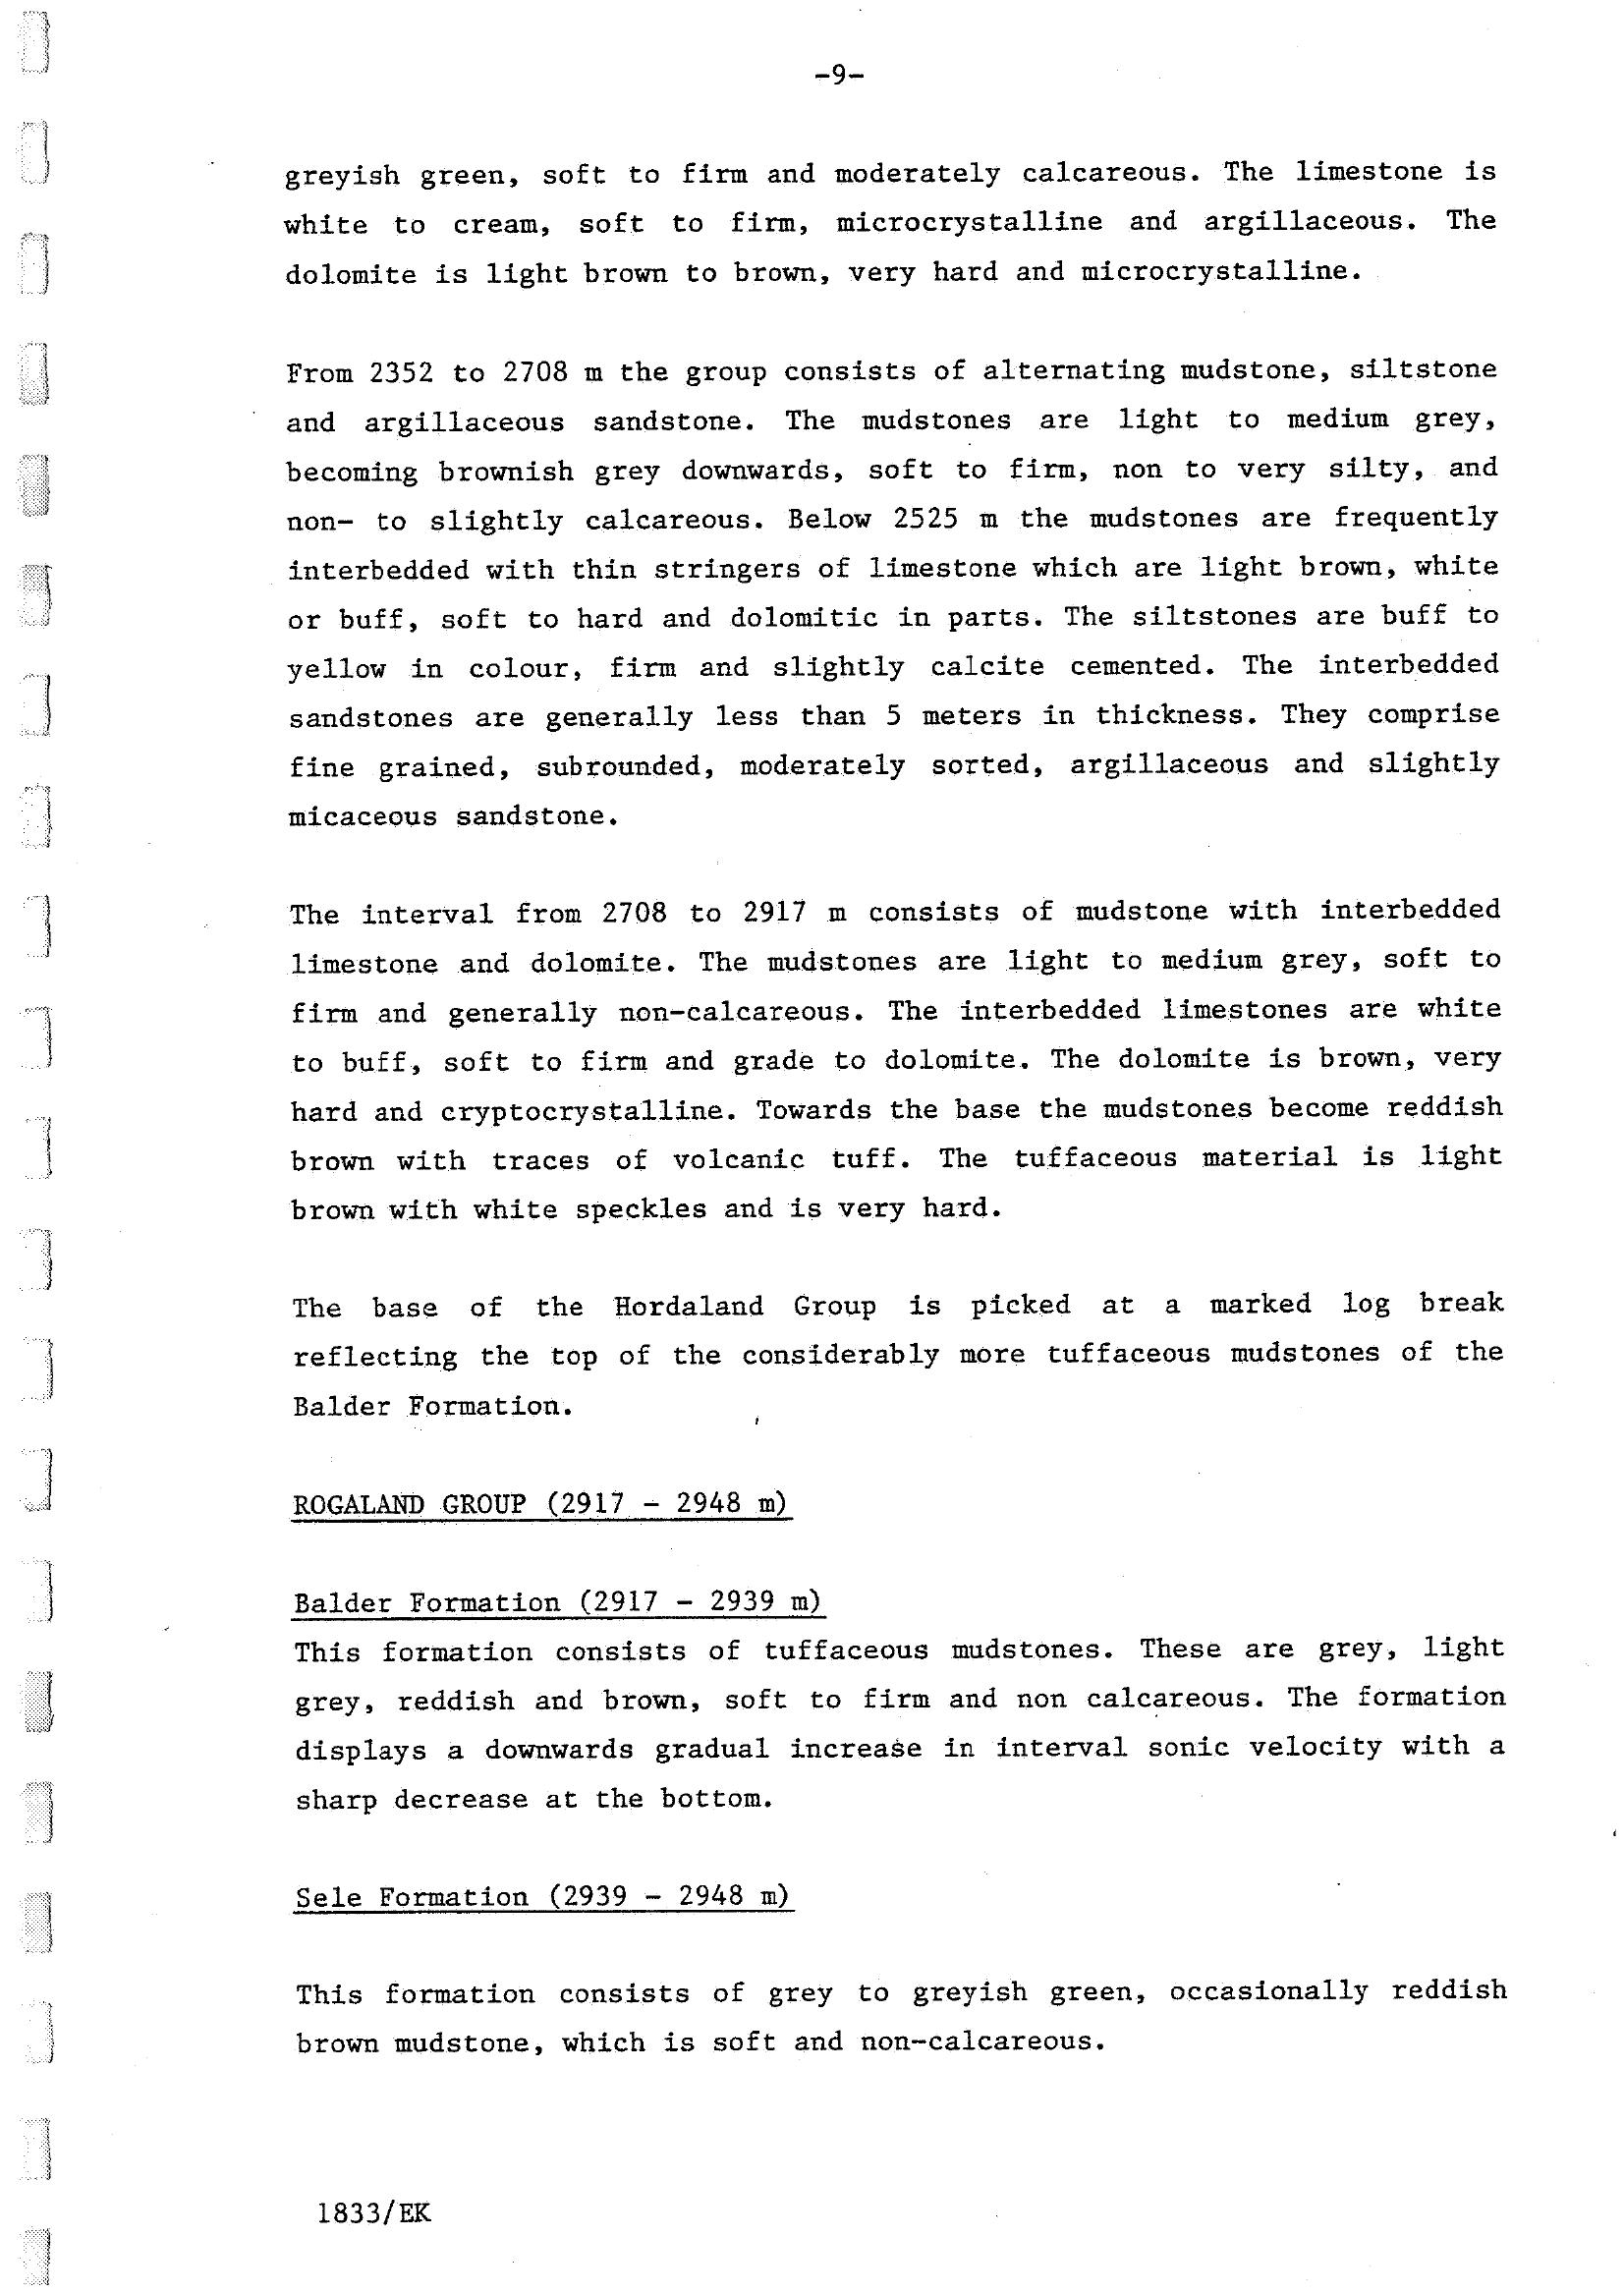text: (257, 144, 1548, 2084)
